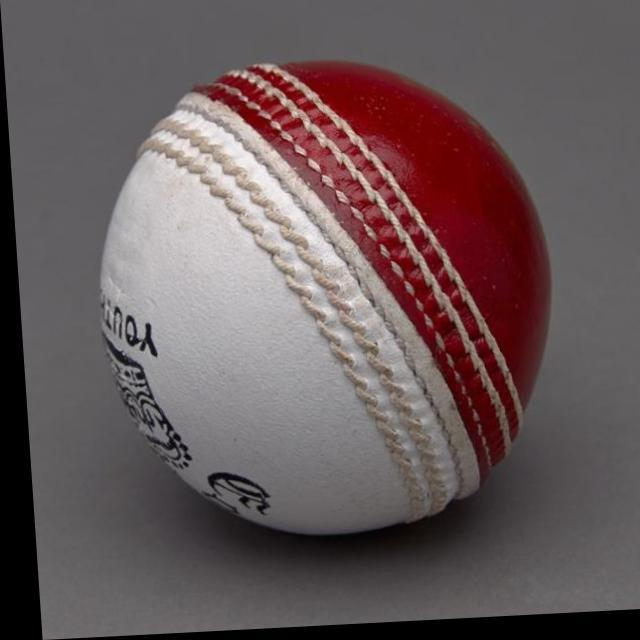cricket ball: (96, 62, 549, 539)
